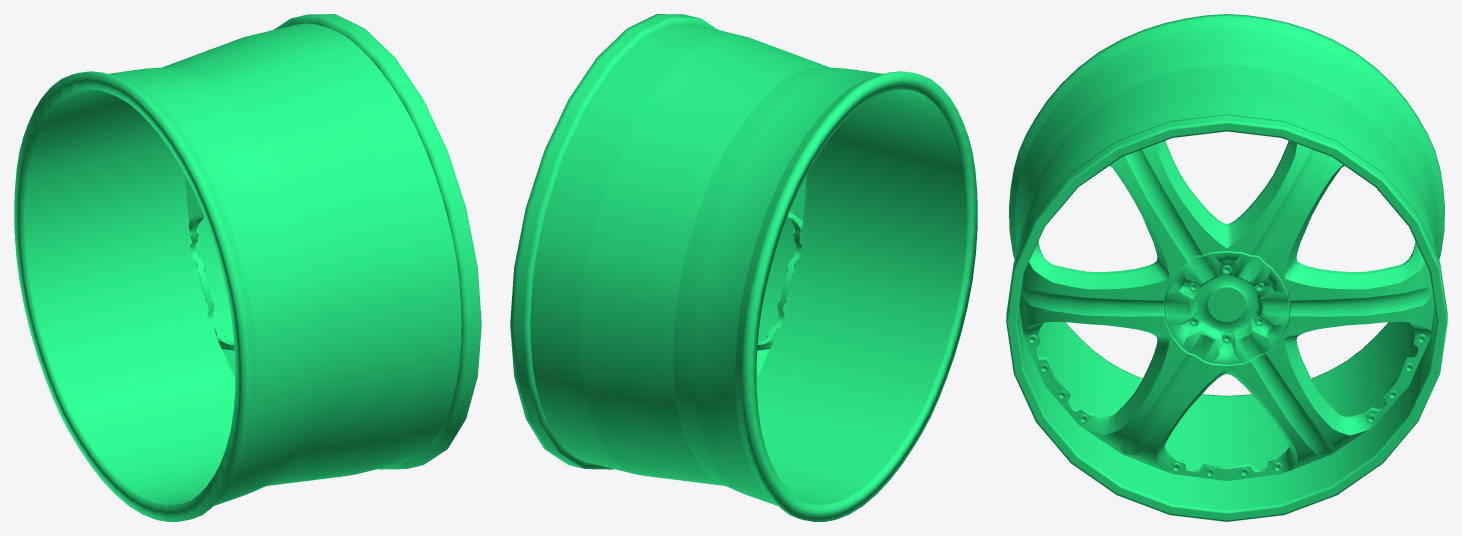
File: tis06.fbx
3 views of the same model, side by side, from view 1: azimuth 30°, elevation 25°; view 2: azimuth 150°, elevation 25°; view 3: azimuth 270°, elevation 25° (orthographic). The views are drawn at different scales.
Visible parts, largest first — view 1: tis06; view 2: tis06; view 3: tis06.
Boxes of the visible parts, x1,y1,x2,y2 form: tis06: (14, 14, 481, 521); tis06: (510, 14, 977, 521); tis06: (1006, 14, 1447, 521).
Size of the model in its own units: 1435 by 2448 by 2448.
